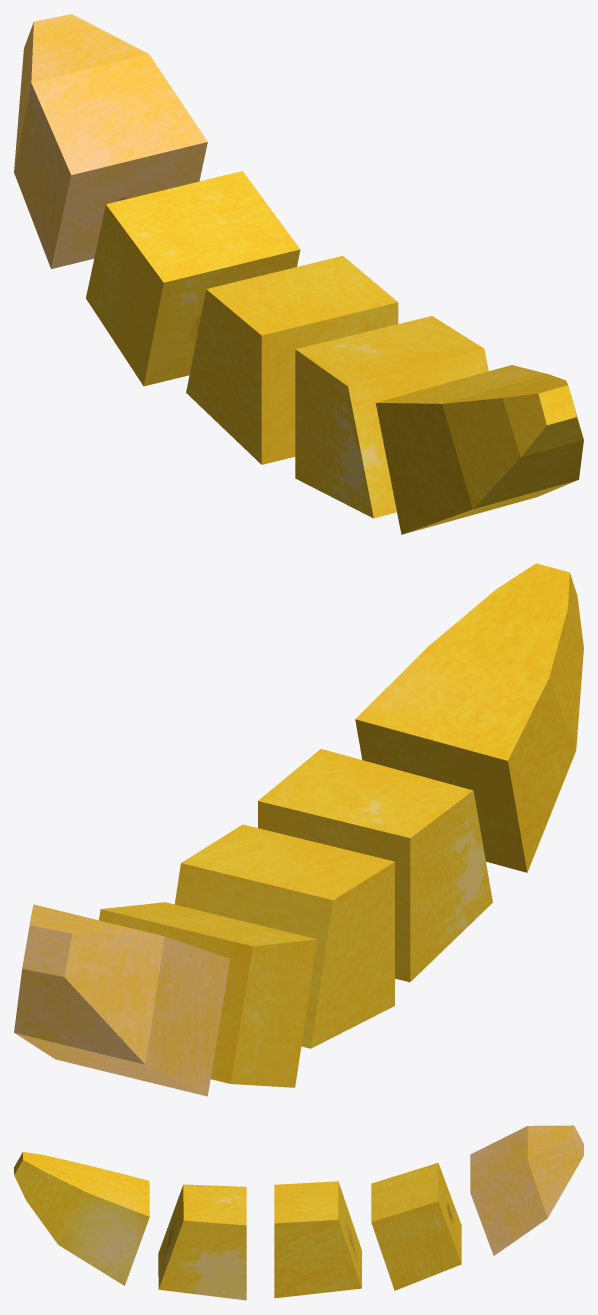
Rendered from partidodorado.fbx.
3 views of the same model, one above another, from view 1: azimuth 30°, elevation 25°; view 2: azimuth 150°, elevation 25°; view 3: azimuth 270°, elevation 25° (orthographic). The views are drawn at different scales.
Parts seen in each view (by area): view 1: 5, 4, 1, 3, 2; view 2: 1, 5, 3, 2, 4; view 3: 1, 5, 3, 2, 4.
Part boxes in pixels (x1=…): 5: x1=14, y1=14, x2=207, y2=268; 4: x1=86, y1=171, x2=300, y2=386; 1: x1=375, y1=365, x2=583, y2=534; 3: x1=186, y1=256, x2=398, y2=464; 2: x1=295, y1=316, x2=488, y2=518; 1: x1=355, y1=563, x2=583, y2=872; 5: x1=14, y1=904, x2=229, y2=1096; 3: x1=174, y1=824, x2=394, y2=1048; 2: x1=258, y1=749, x2=492, y2=982; 4: x1=99, y1=902, x2=317, y2=1087; 1: x1=14, y1=1152, x2=149, y2=1285; 5: x1=470, y1=1125, x2=583, y2=1255; 3: x1=274, y1=1181, x2=361, y2=1298; 2: x1=158, y1=1184, x2=246, y2=1300; 4: x1=371, y1=1163, x2=461, y2=1290.
Size of the model in its own units: 23.62 by 32.71 by 118.
